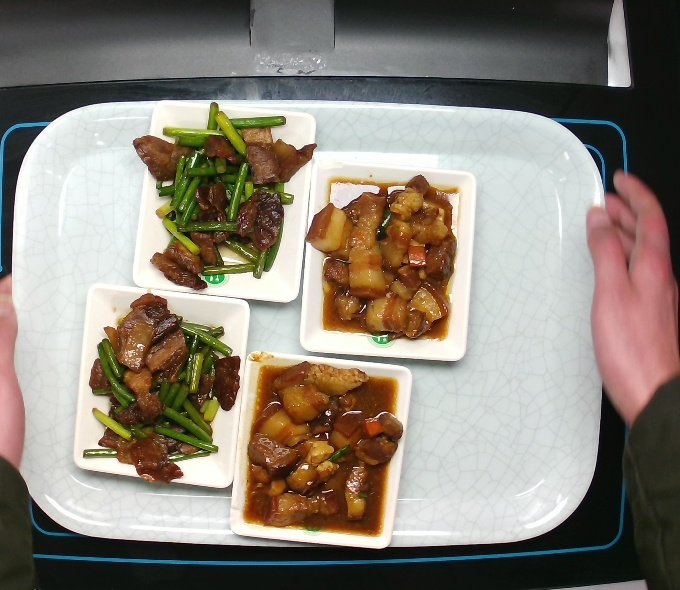wcq-HongShaoRou: (307, 167, 462, 343), (244, 359, 399, 535)
wcq-SuanMiaoChaoRou: (130, 98, 318, 295), (78, 293, 237, 489)
